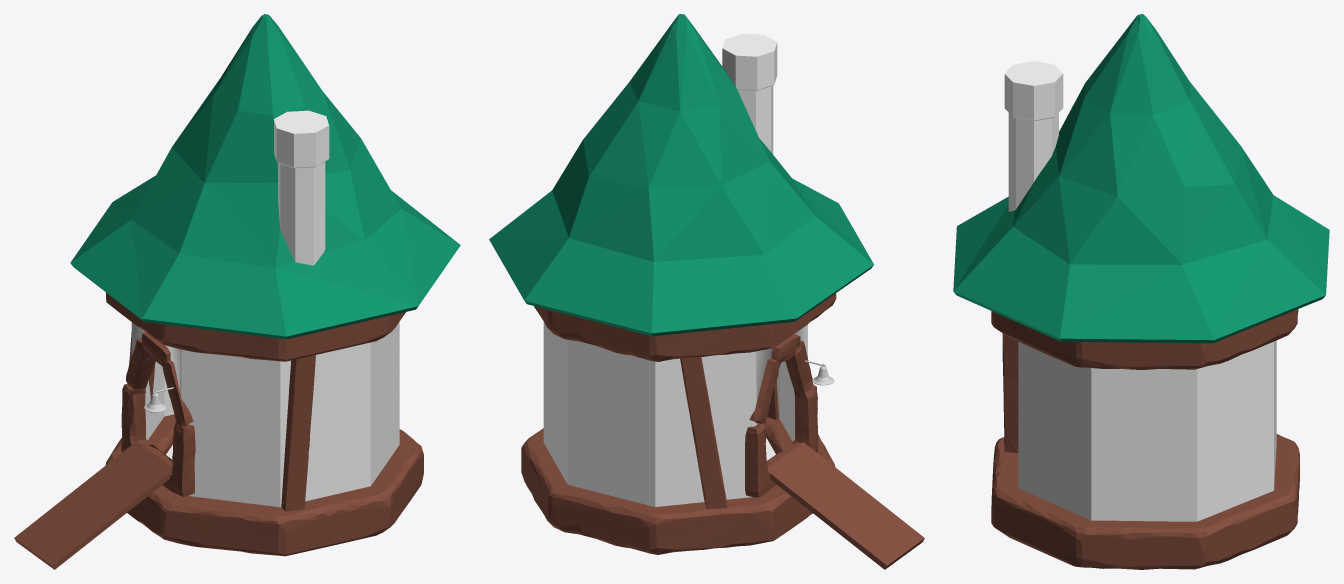
File: MaisonChercheur.fbx
3 renders of one model, left to right at view 1: azimuth 30°, elevation 25°; view 2: azimuth 150°, elevation 25°; view 3: azimuth 270°, elevation 25°, orthographic. The views are drawn at different scales.
Visible parts, largest first — view 1: WoodRingHigh.007; view 2: WoodRingHigh.007; view 3: WoodRingHigh.007.
Part boxes in pixels (x1,y1,x2,y2): WoodRingHigh.007: [14, 14, 460, 569]; WoodRingHigh.007: [489, 14, 924, 569]; WoodRingHigh.007: [953, 14, 1329, 569].
Bounding box in the file's own units: 1388 × 1667 × 1136.
